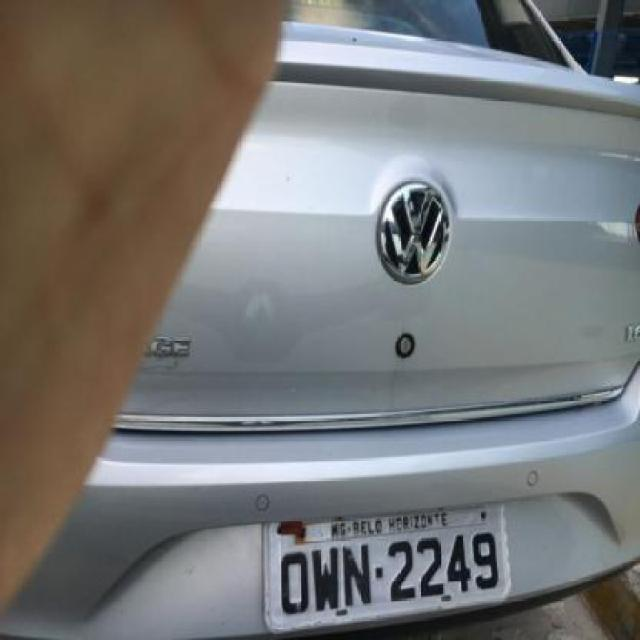old_plate: (258, 497, 520, 637), (431, 580, 434, 582)
